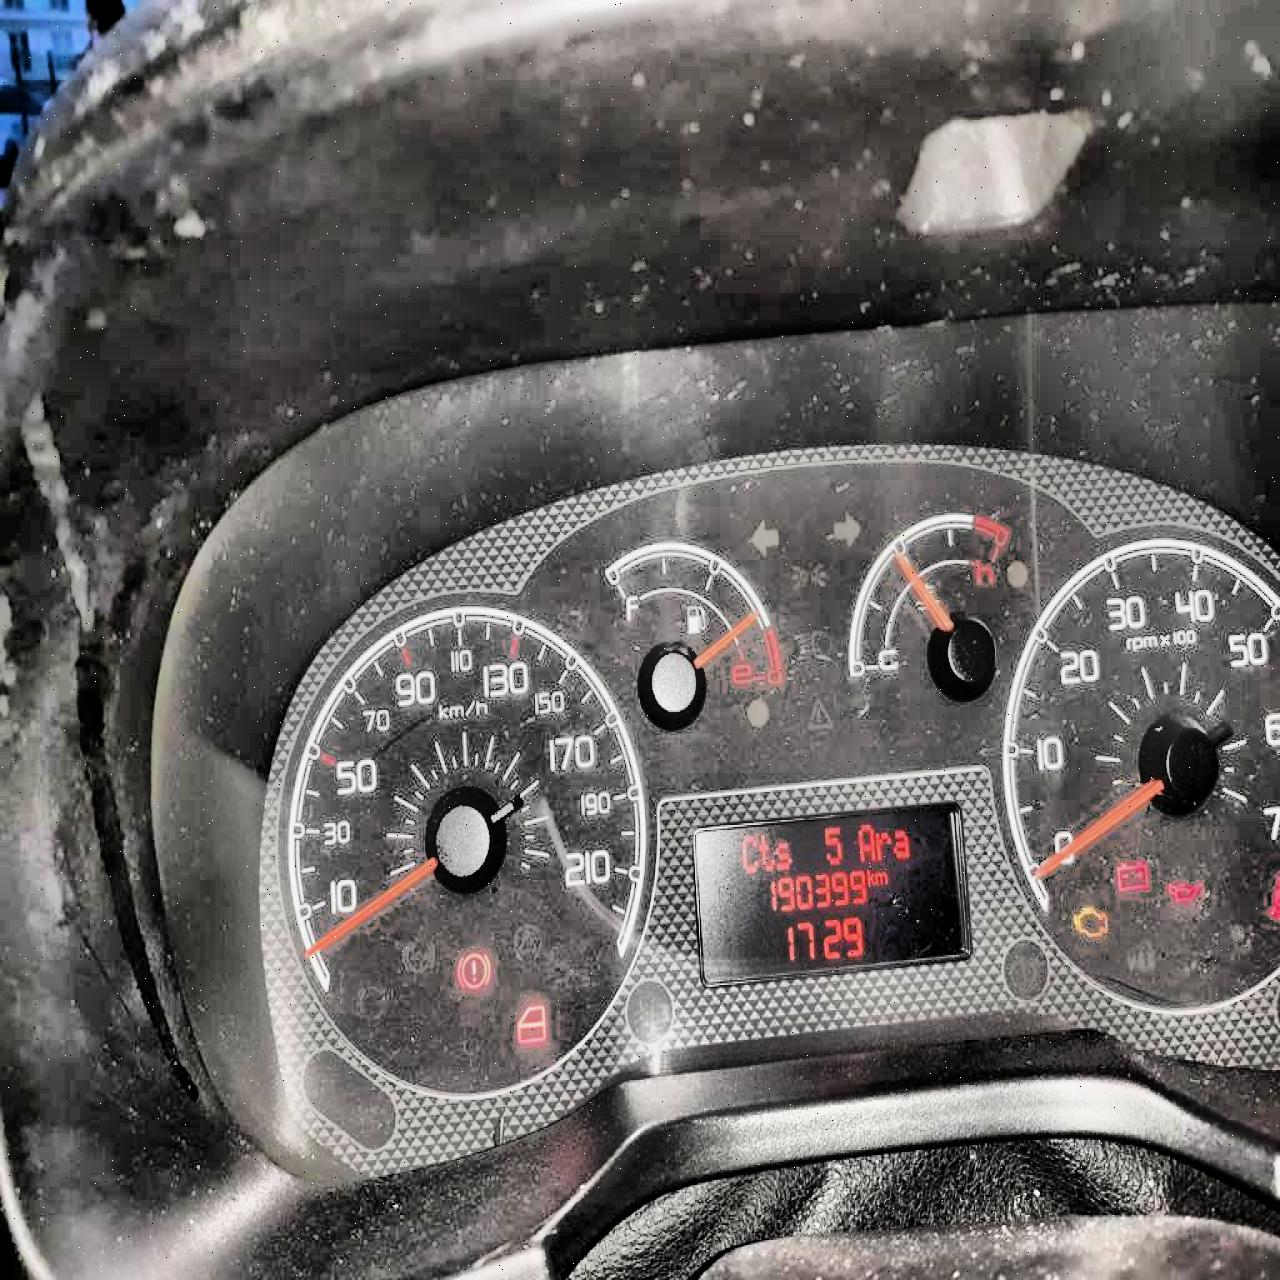0: (794, 873, 813, 910)
1: (779, 920, 796, 965), (765, 877, 776, 913)
2: (821, 917, 839, 960)
3: (812, 870, 829, 908)
5: (822, 822, 843, 866)
7: (796, 918, 815, 961)
9: (842, 912, 864, 959), (830, 869, 849, 907), (776, 873, 794, 912), (849, 866, 866, 905)
X: (738, 830, 760, 874), (855, 819, 874, 863), (757, 830, 774, 874), (890, 826, 911, 860), (774, 837, 792, 873), (874, 826, 890, 862), (872, 869, 892, 887), (865, 862, 874, 885)
odometer: (689, 798, 972, 989)
